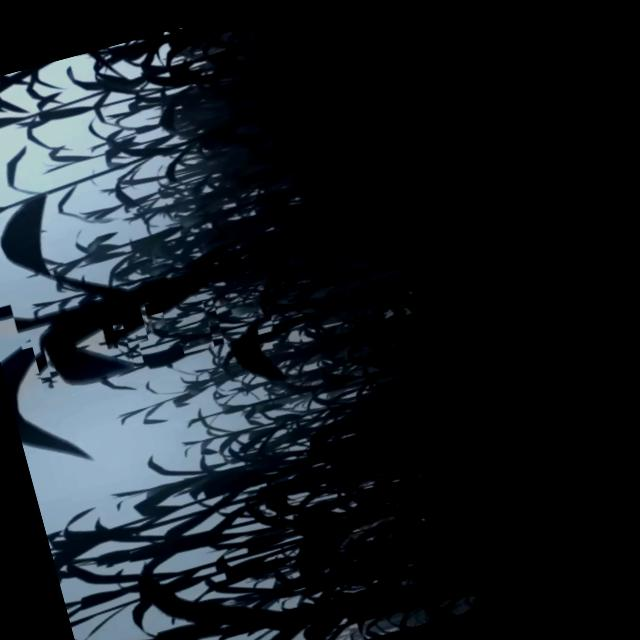boy: (376, 295, 421, 321)
